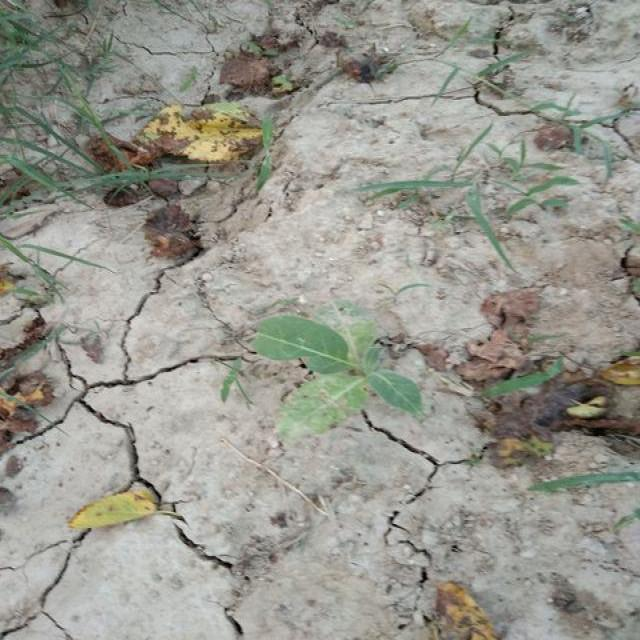crop: (250, 310, 426, 431)
